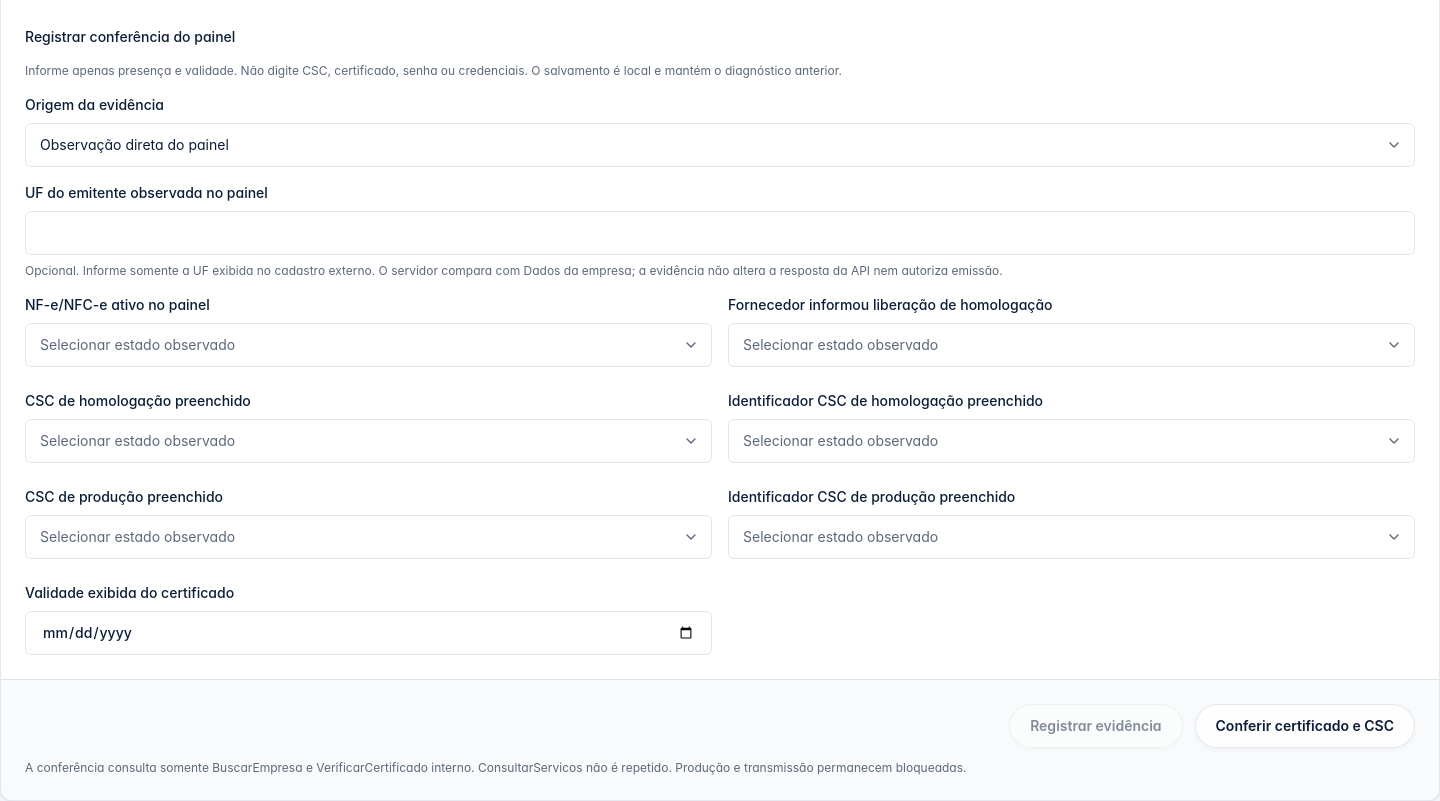
Test case: Pré-requisitos administrativos: ações explícitas e estados reais › edição não salva no blur; registro incompleto não cria estados presumidos
(page scrolled)
Type "2026-11-07" into the date field labelled "Validade exibida do certificado".
click(368, 633); type("2026-11-07")  # box x1=25 y1=611 x2=712 y2=655
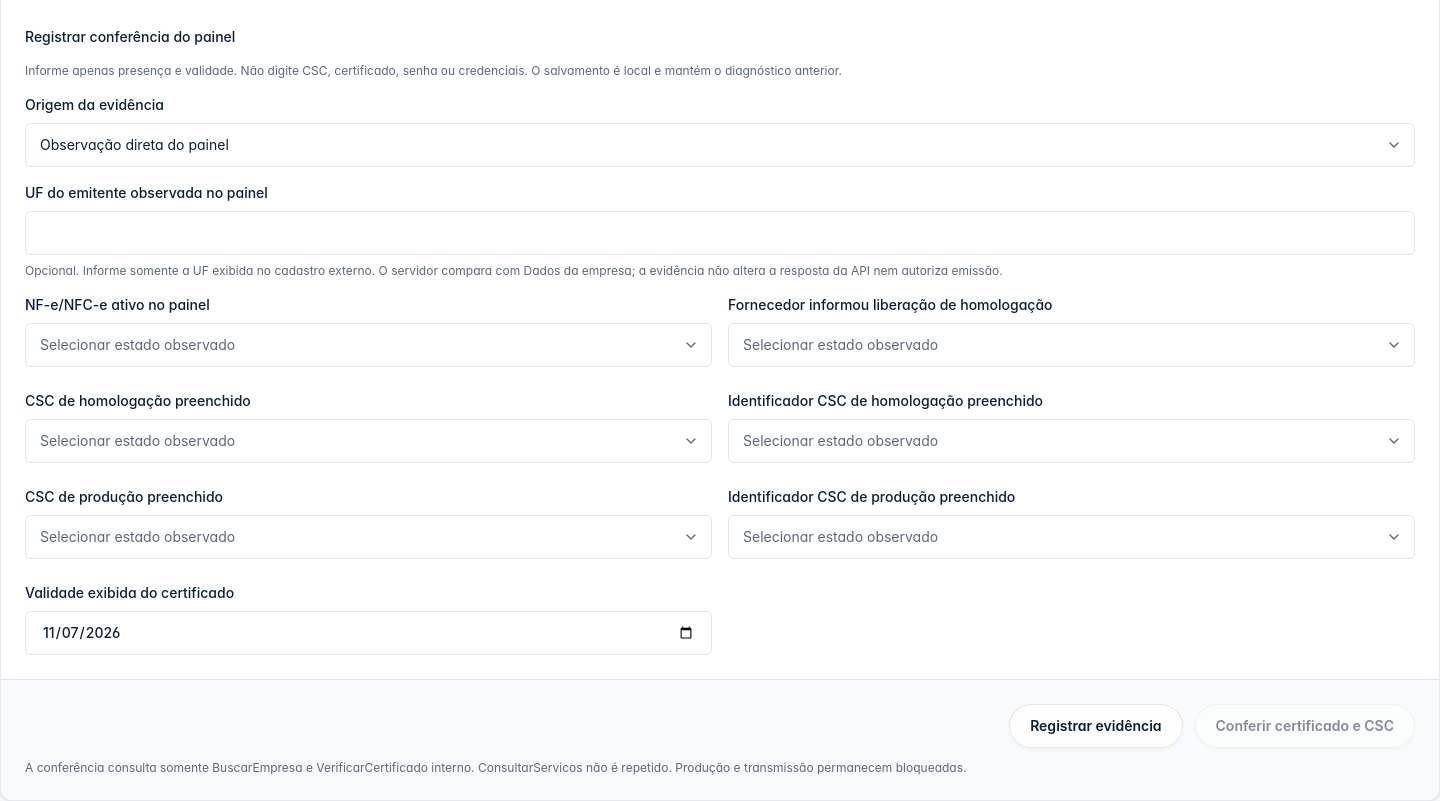
Click the button "Registrar evidência".
click(1096, 726)  # box x1=1009 y1=704 x2=1182 y2=748
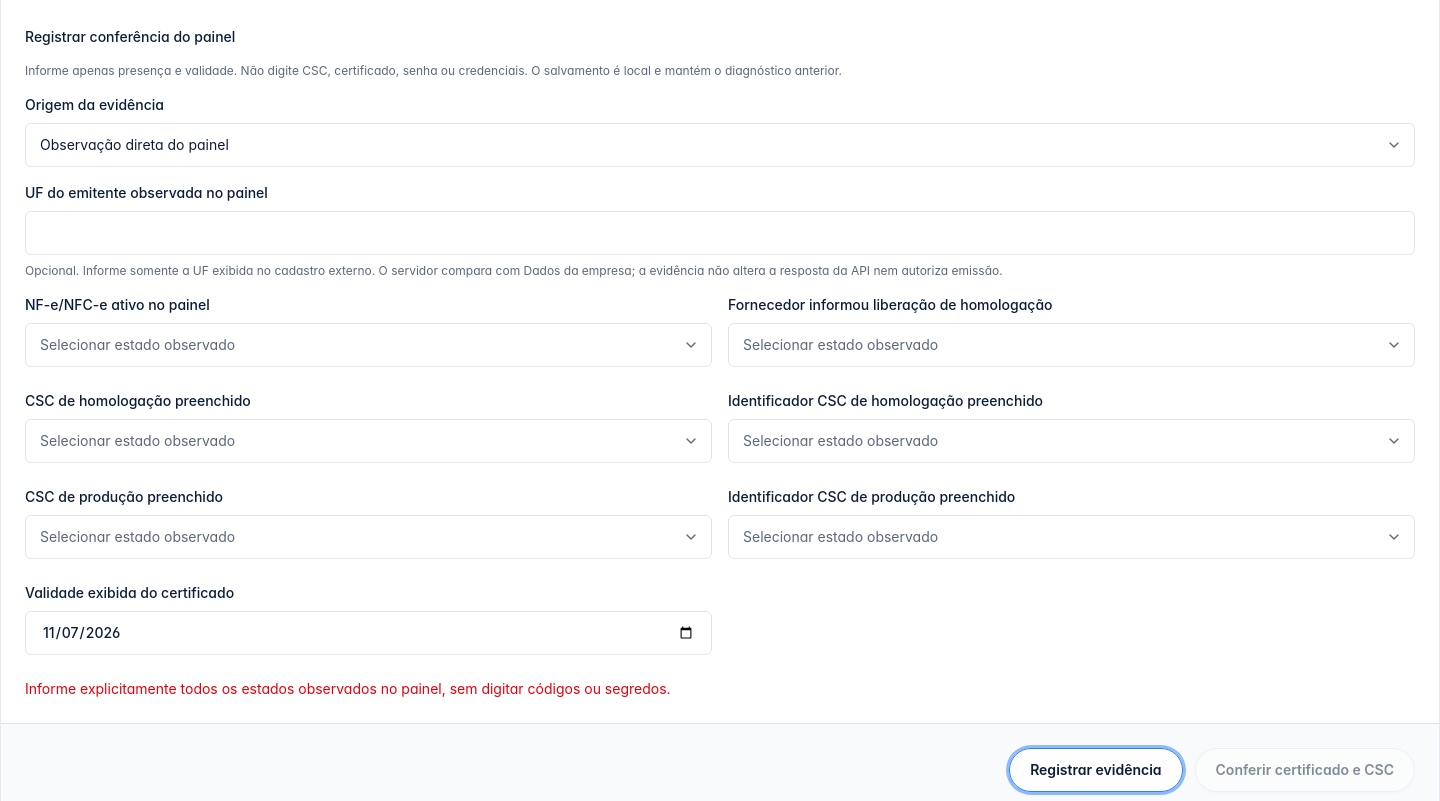
Result: the message shows "explicitamente" at x1=25 y1=680 x2=671 y2=697
